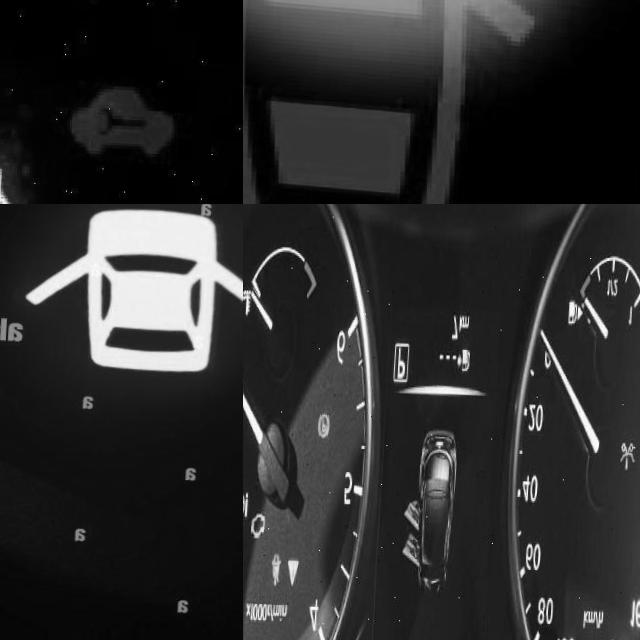Electronic Power Steering Warning: (243, 487, 254, 519)
Seat Belt: (273, 550, 290, 586)
